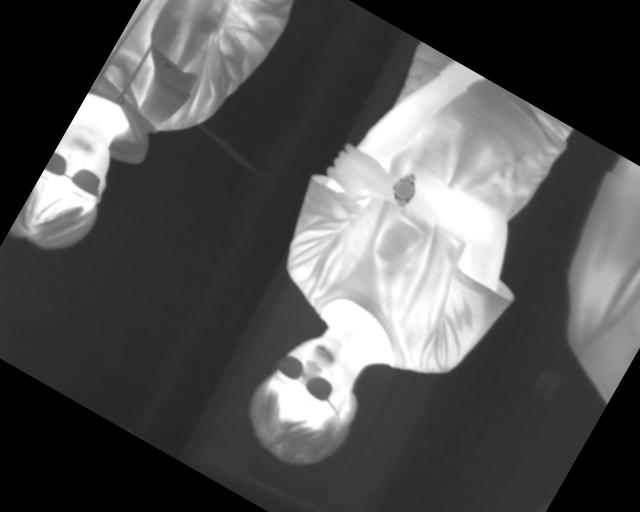face: (230, 315, 384, 482), (7, 118, 135, 270)
